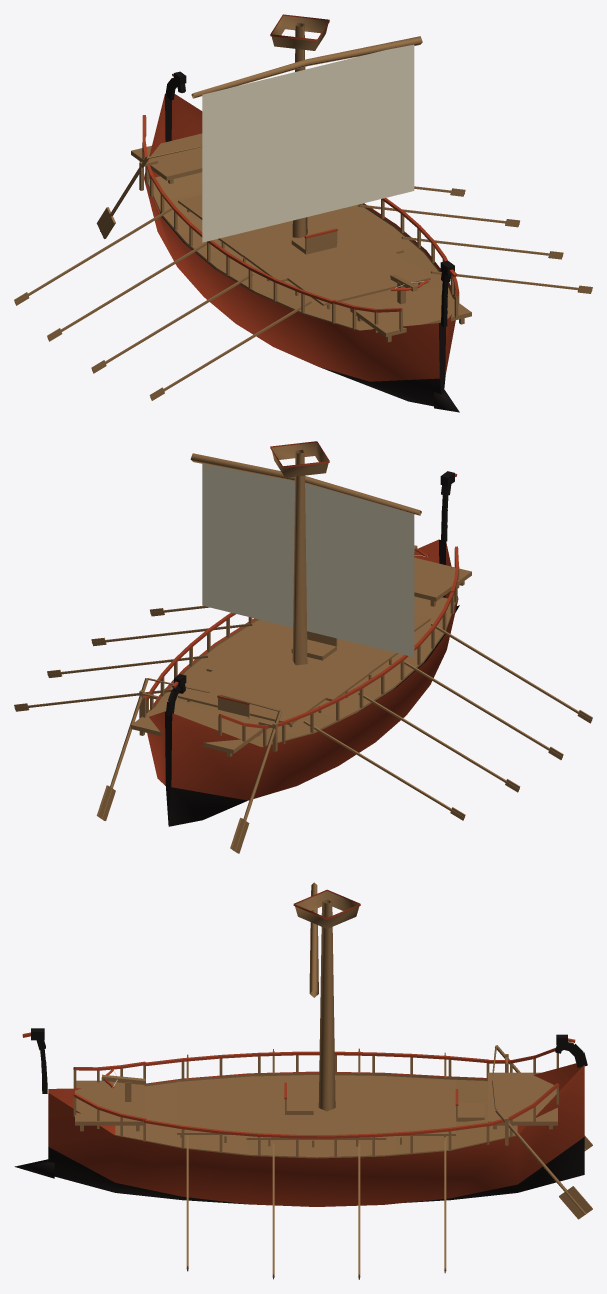
File: ship_boarder_blockout_LOD2.obj
The picture shows the model from 3 angles, top to bottom: view 1: azimuth 30°, elevation 25°; view 2: azimuth 150°, elevation 25°; view 3: azimuth 270°, elevation 25°; orthographic projection. The views are drawn at different scales.
Parts seen in each view (by area): view 1: ship_boarder_blockout_LOD2; view 2: ship_boarder_blockout_LOD2; view 3: ship_boarder_blockout_LOD2.
Boxes of the visible parts, x1,y1,x2,y2 form: ship_boarder_blockout_LOD2: (14, 14, 592, 412); ship_boarder_blockout_LOD2: (14, 441, 592, 853); ship_boarder_blockout_LOD2: (14, 882, 592, 1279).
Size of the model in its own units: 24.36 by 15.27 by 26.38.
